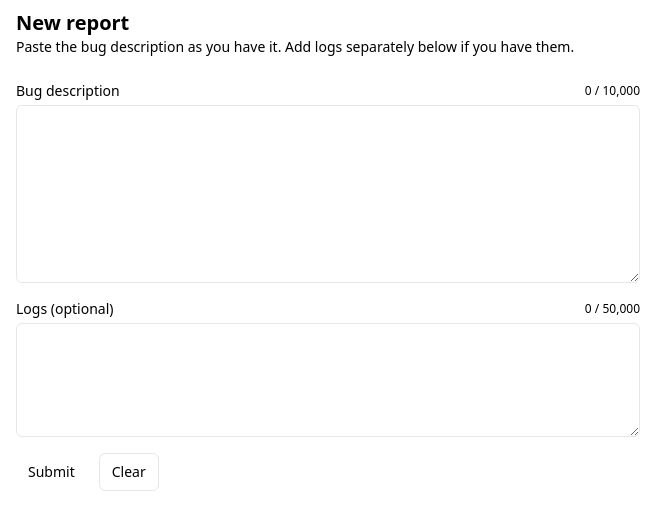
Test: NewReport › does not submit empty input
What coordinates should you click on to do the following:
click the button "Submit"
I would click on:
 (51, 472)
Its box is left=16, top=453, right=87, bottom=491.
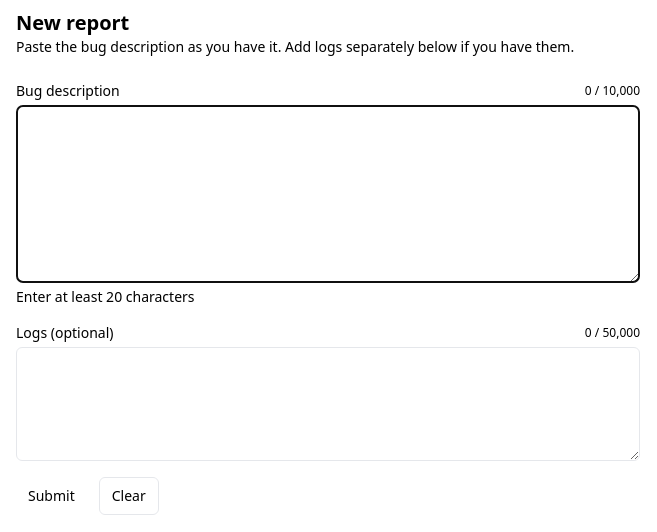
expect the text "Enter at least 20 characters" is shown: met, box left=16, top=287, right=194, bottom=306
